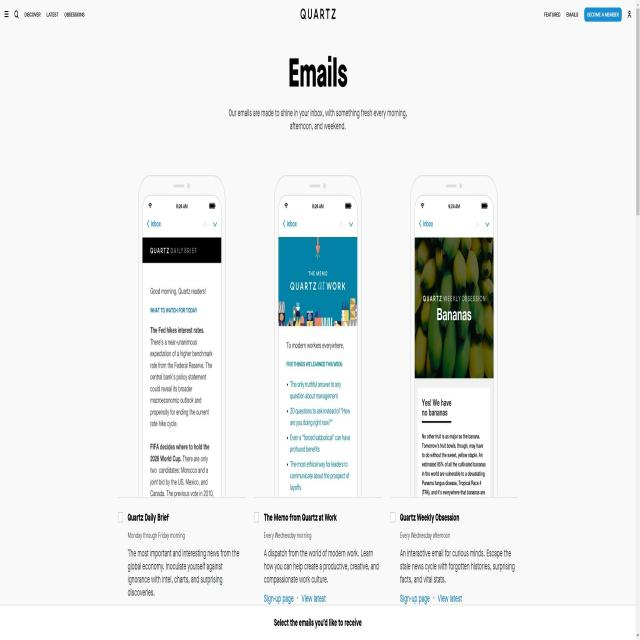button: (583, 4, 624, 25)
checkbox: (252, 508, 339, 527), (389, 507, 461, 527), (116, 505, 172, 527)
